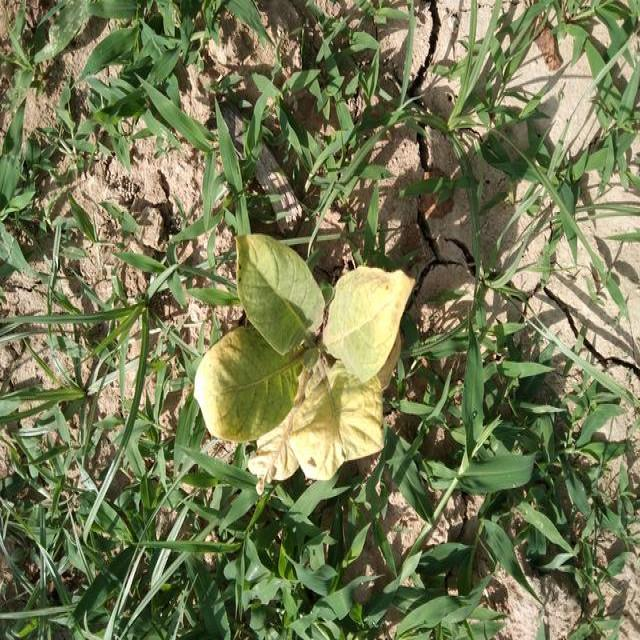crop: (195, 222, 412, 477)
